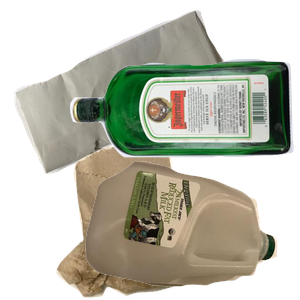glass: (67, 56, 300, 206)
paper: (12, 10, 240, 176)
plastic: (83, 159, 300, 300)
trash: (54, 147, 271, 300)
